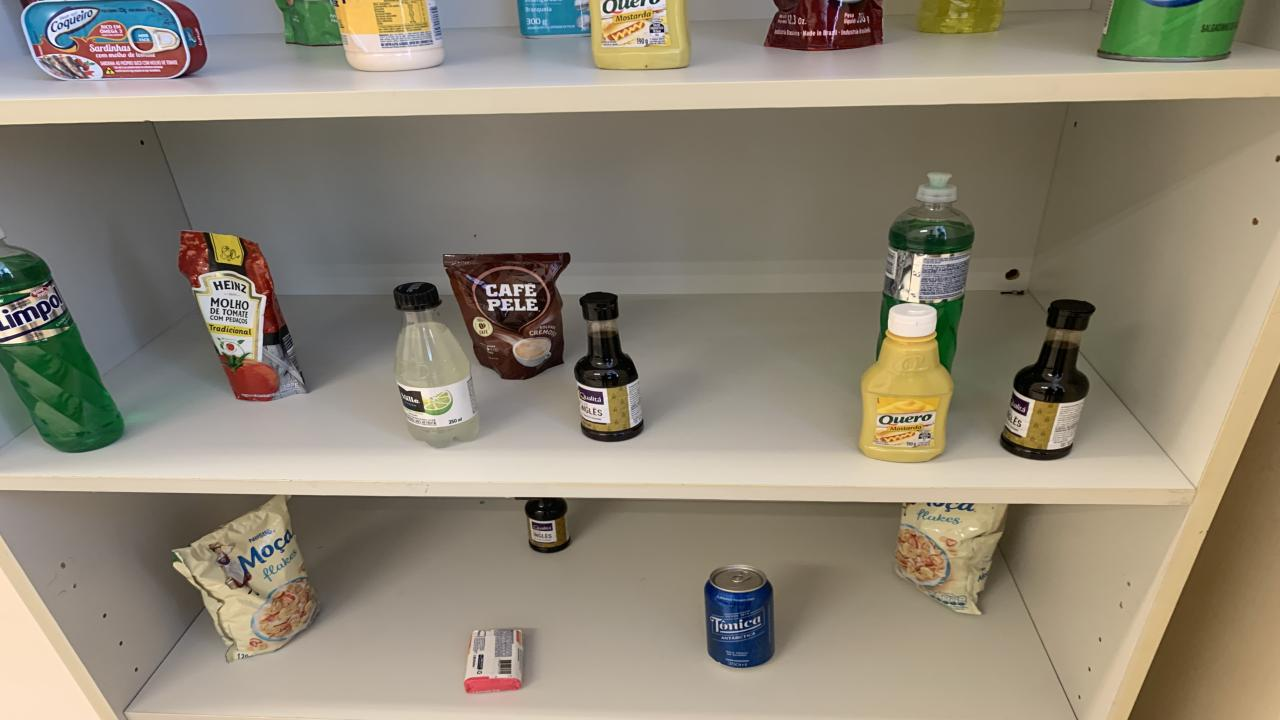Cleaner-Cleanup_Items: (518, 0, 590, 38)
Coffee-Pantry_Items: (442, 253, 570, 379)
Detergent-Cleanup_Items: (0, 231, 125, 452), (878, 172, 975, 369), (918, 0, 1005, 34)
English_Sauce-Pantry_Items: (1000, 300, 1095, 459), (575, 292, 645, 442), (525, 497, 570, 553)
Flakes-Snacks: (172, 495, 320, 662), (895, 502, 1008, 615)
Mayonnaise-Pantry_Items: (335, 0, 445, 71)
Mustard-Pantry_Items: (860, 304, 952, 463), (590, 0, 690, 69)
Pringles-Snacks: (1098, 0, 1245, 62)
Soap-Cleanup_Items: (465, 628, 522, 694)
Soda-Drinks: (392, 281, 478, 448)
Tomato_Sauce-Pantry_Items: (178, 231, 308, 401), (765, 0, 882, 51), (275, 0, 342, 47)
Tonic-Drinks: (705, 564, 775, 668)
Tuna_Can-Pantry_Items: (20, 0, 208, 82)
